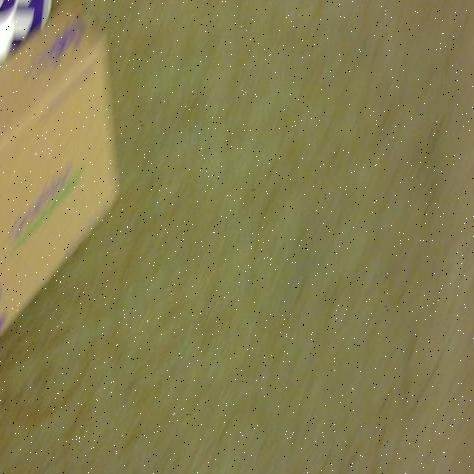Amazon: (0, 5, 130, 363)
